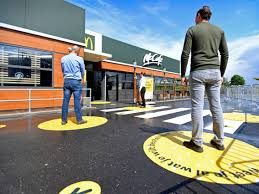Good: (136, 4, 235, 150), (58, 43, 152, 126)
